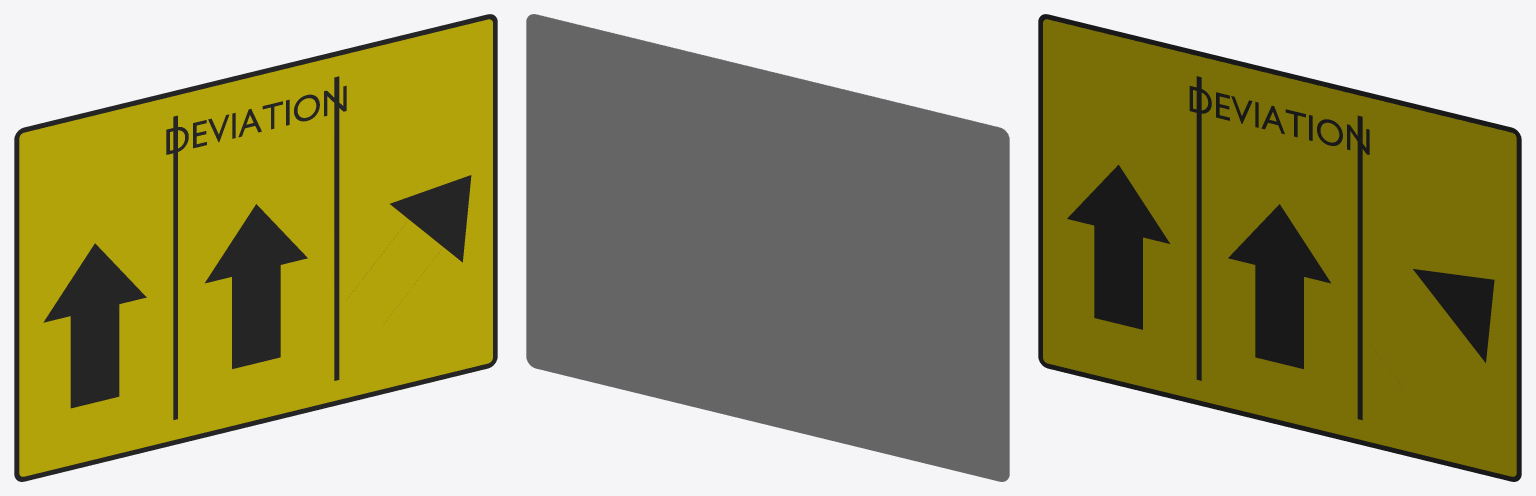
3 renders of one model, left to right at view 1: azimuth 30°, elevation 25°; view 2: azimuth 150°, elevation 25°; view 3: azimuth 330°, elevation 25°, orthographic.
Visible parts, largest first — view 1: KD10a_fond01, KD10a_cadre00, KD10a_v02, KD10a_v04, KD10a_v06, KD10a_txt07, KD10a_sep05, KD10a_sep03; view 2: KD10a_dos; view 3: KD10a_fond01, KD10a_cadre00, KD10a_v02, KD10a_v04, KD10a_v06, KD10a_txt07, KD10a_sep05, KD10a_sep03.
Boxes of the visible parts, x1=… form: KD10a_fond01: x1=19, y1=19, x2=492, y2=476; KD10a_cadre00: x1=14, y1=14, x2=497, y2=481; KD10a_v02: x1=43, y1=243, x2=146, y2=408; KD10a_v04: x1=205, y1=204, x2=307, y2=368; KD10a_v06: x1=363, y1=175, x2=471, y2=320; KD10a_txt07: x1=166, y1=85, x2=346, y2=154; KD10a_sep05: x1=334, y1=76, x2=339, y2=380; KD10a_sep03: x1=173, y1=115, x2=177, y2=419; KD10a_dos: x1=526, y1=14, x2=1009, y2=481; KD10a_fond01: x1=1043, y1=19, x2=1516, y2=476; KD10a_cadre00: x1=1038, y1=14, x2=1521, y2=481; KD10a_v02: x1=1067, y1=164, x2=1169, y2=329; KD10a_v04: x1=1228, y1=204, x2=1330, y2=368; KD10a_v06: x1=1370, y1=269, x2=1494, y2=385; KD10a_txt07: x1=1189, y1=86, x2=1369, y2=154; KD10a_sep05: x1=1357, y1=115, x2=1362, y2=420; KD10a_sep03: x1=1196, y1=76, x2=1201, y2=380.
Bounding box in the file's own units: 2 × 1.4 × 0.0045.
